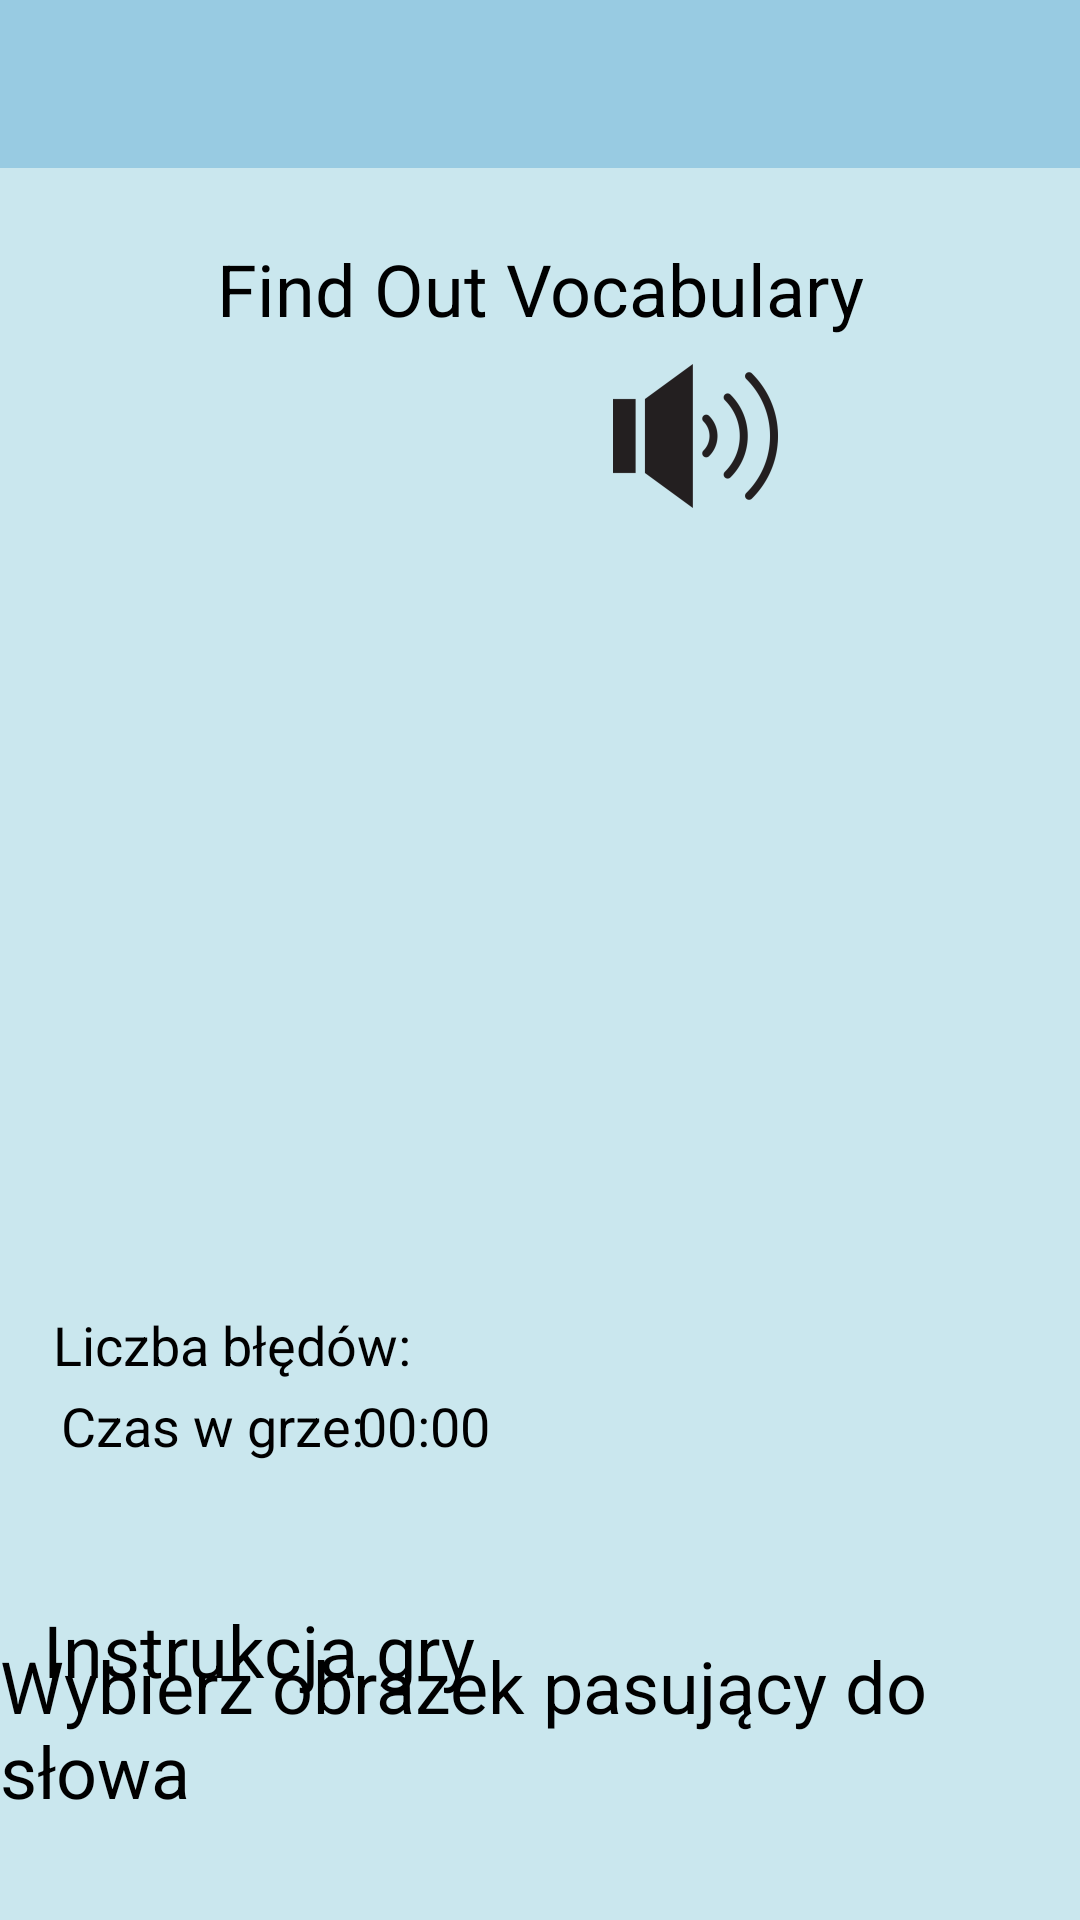

Point at icon controls on the screen. Image size 1080px×1920px, points as (x,y).
speaker: (695,436)
